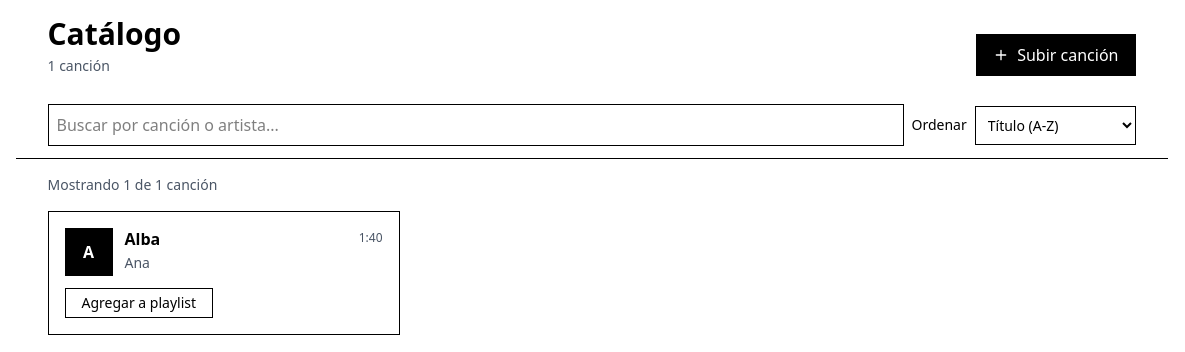
Catalog › una búsqueda sin resultados deja el buscador a mano
Expected: the text "Mostrando 1 de 1 canción" is shown, [48,175,217,194]
Type "nada" into the search field.
click(476, 125); type("nada")  # box [48,104,904,146]
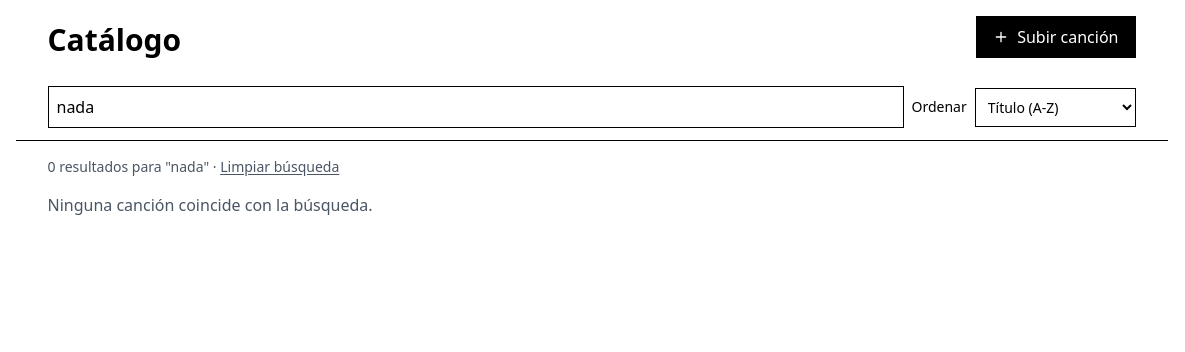
Expected: the text "Ninguna canción coincide con la búsqueda." is shown, [48,194,373,216]
